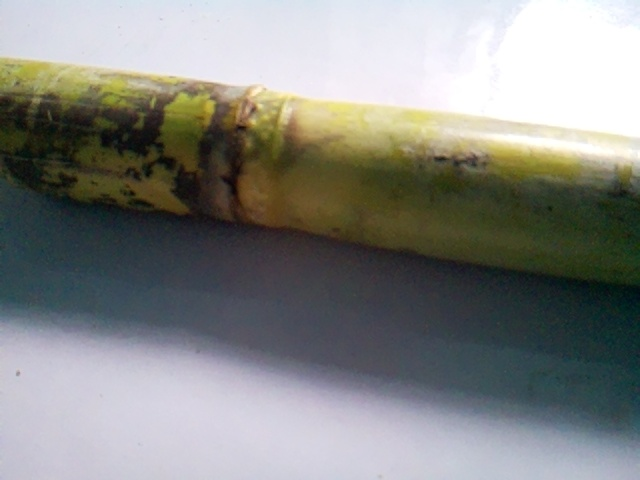Good Sugarcane: (0, 54, 640, 290)
Node: (201, 73, 284, 233)
